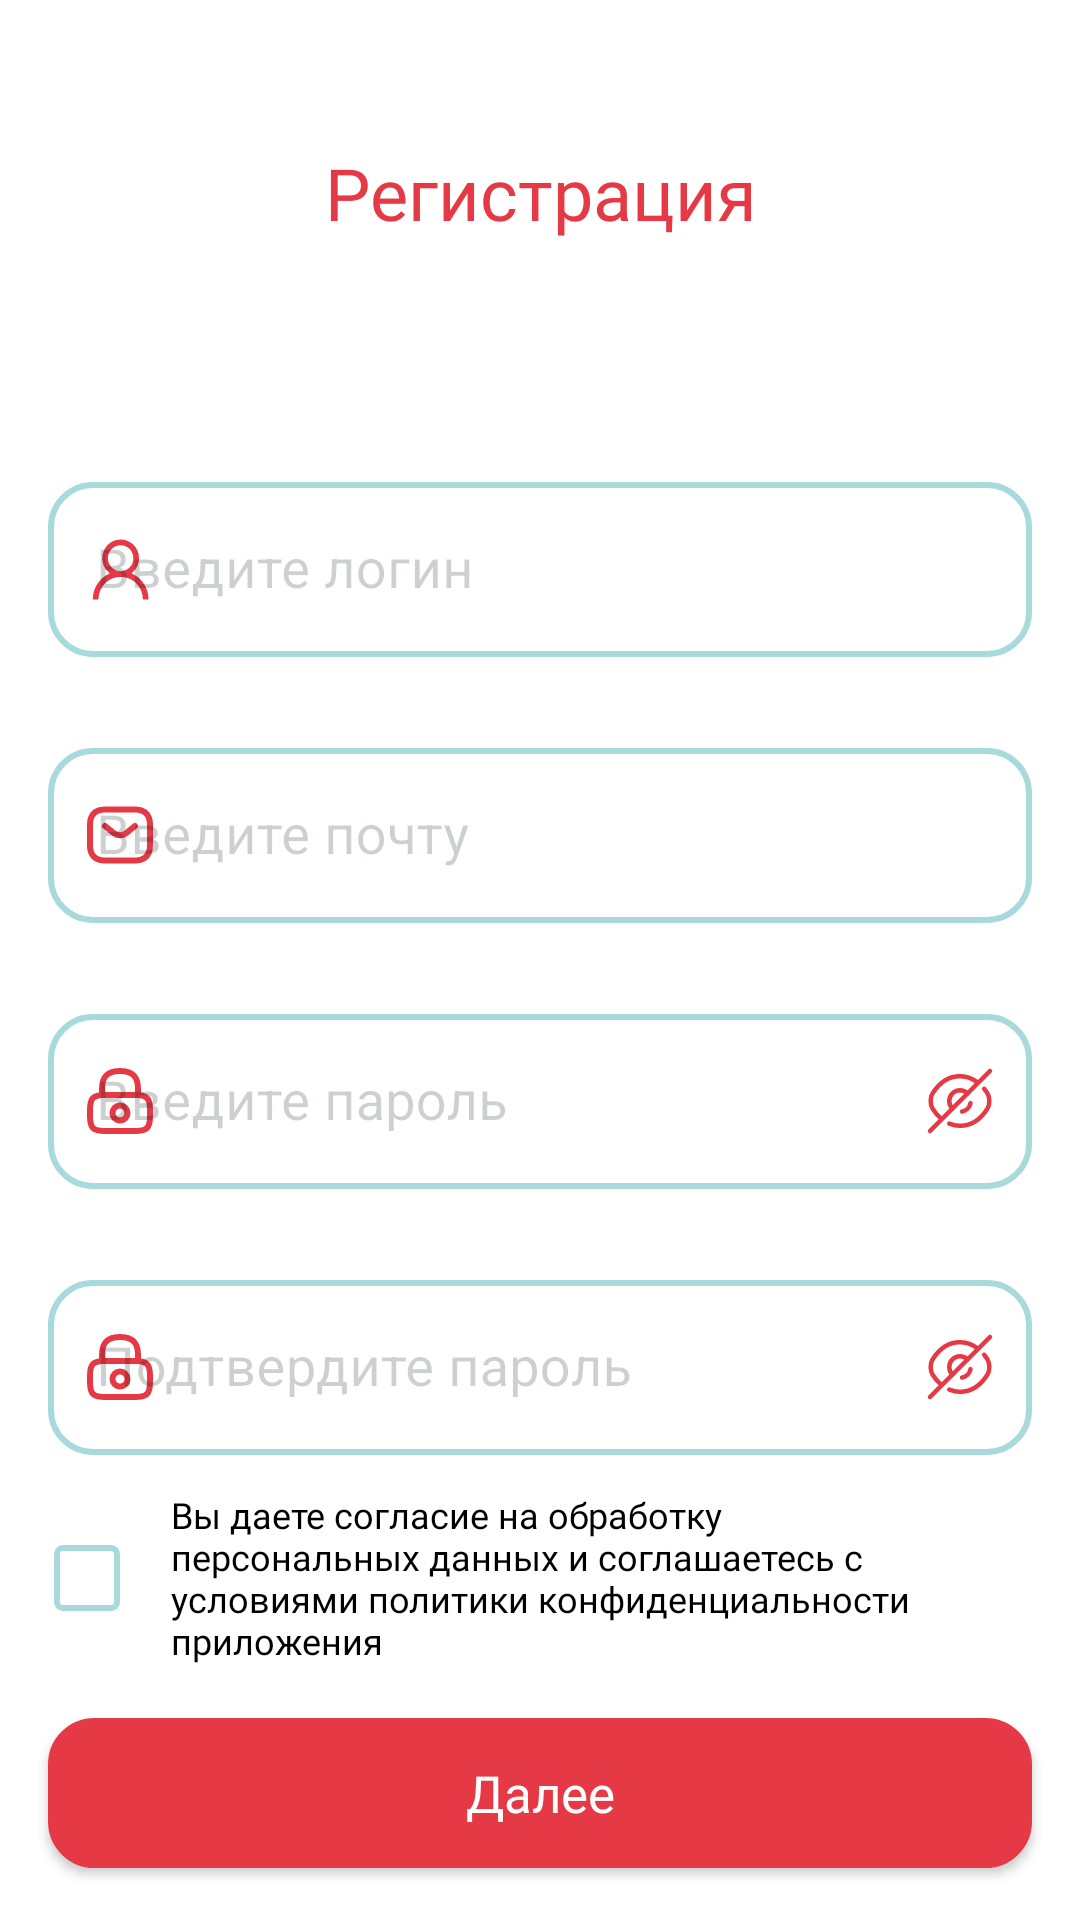

Icon click points for this 1080px x 1920px phone screenshot, format [x,y]:
checkbox: [87,1578]
